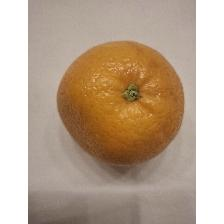Orange: (55, 37, 186, 168)
